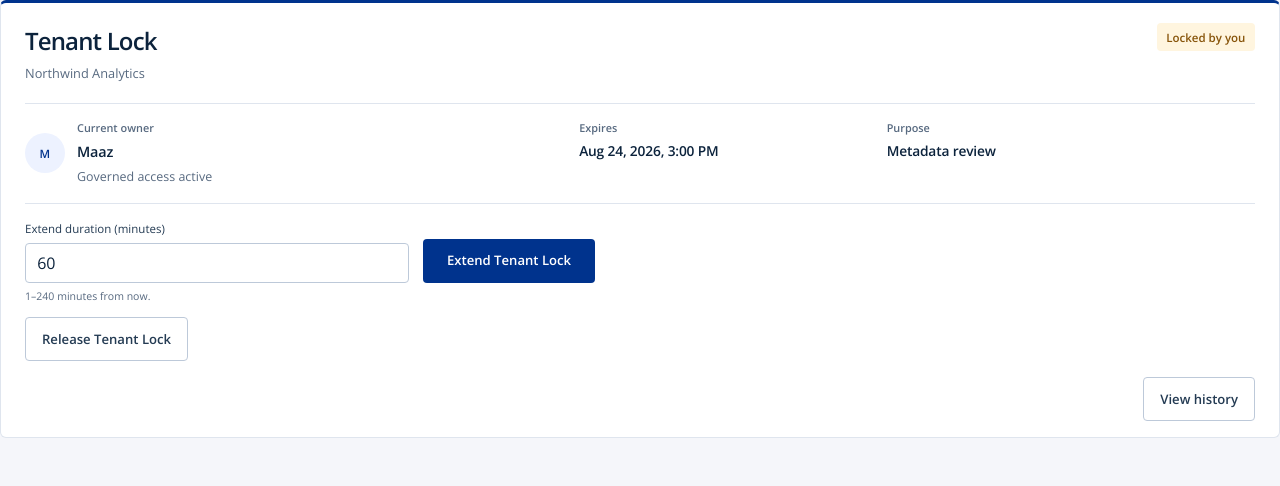
Scenario: Tenant Lock renewal › redacts unknown renewal diagnostics
The width and height of the screenshot is (1280, 486).
Click the button "Extend Tenant Lock" at coordinates (509, 261), box 423,239 -> 595,283
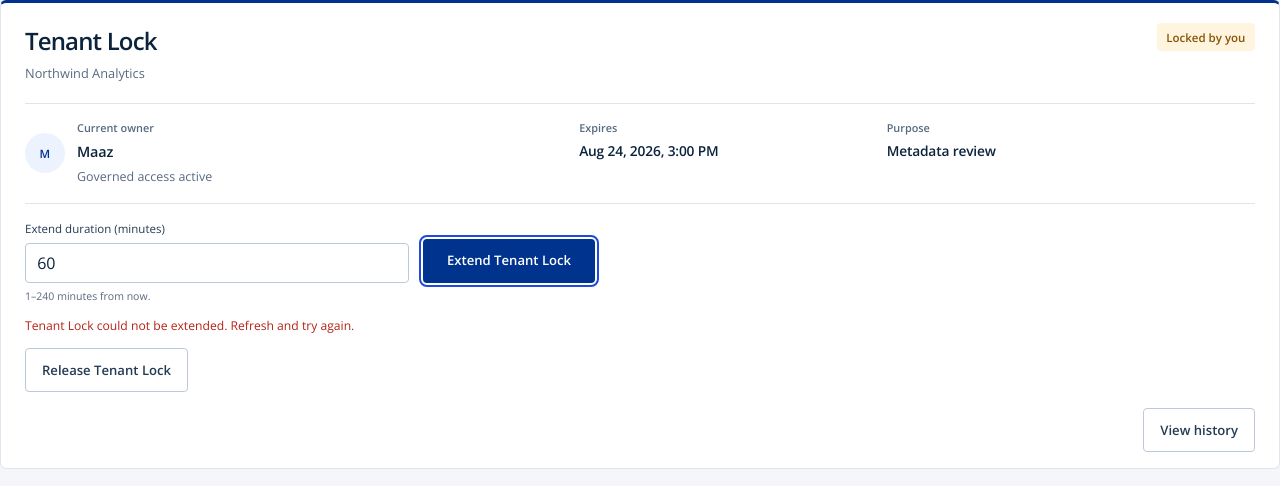
Expected: the message reads "Tenant Lock could not be extended. Refresh and try again.", 25,317 -> 354,334
